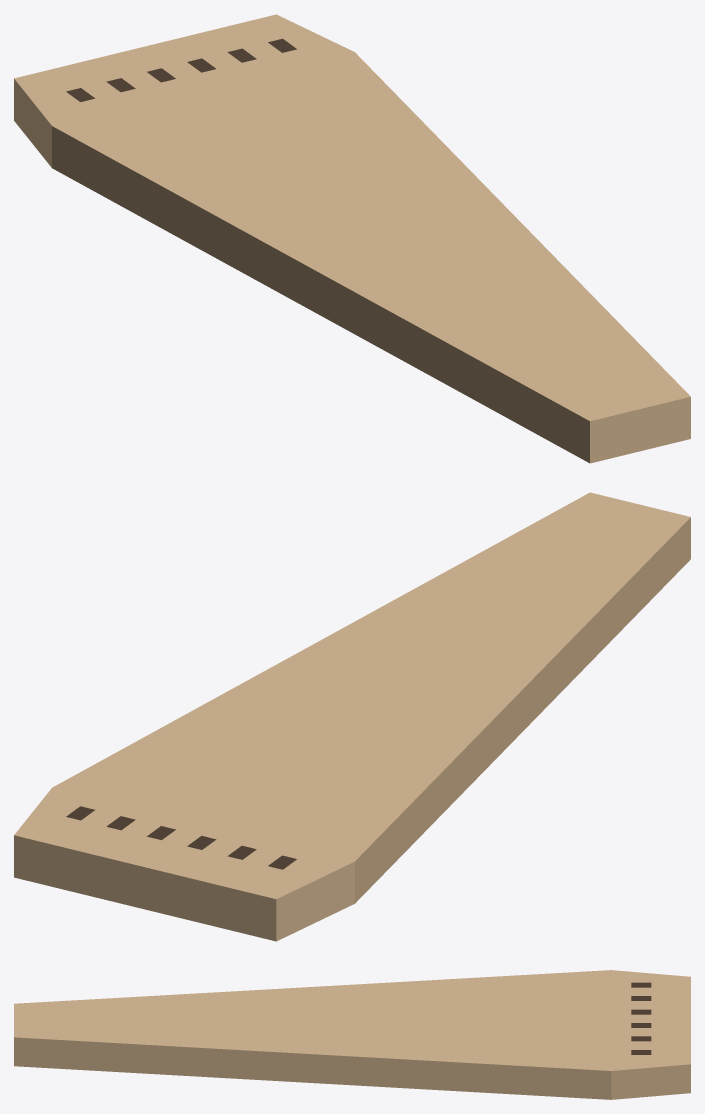
The model's file is prop-tailpiece-blank.fbx.
3 views of the same model, one above another, from view 1: azimuth 30°, elevation 25°; view 2: azimuth 150°, elevation 25°; view 3: azimuth 270°, elevation 25° (orthographic). The views are drawn at different scales.
Parts seen in each view (by area): view 1: prop-tailpiece-blank; view 2: prop-tailpiece-blank; view 3: prop-tailpiece-blank.
Boxes of the visible parts, x1,y1,x2,y2 form: prop-tailpiece-blank: (14,14,690,463); prop-tailpiece-blank: (14,492,690,941); prop-tailpiece-blank: (14,970,690,1099).
Bounding box in the file's own units: 6 × 0.85 × 17.
